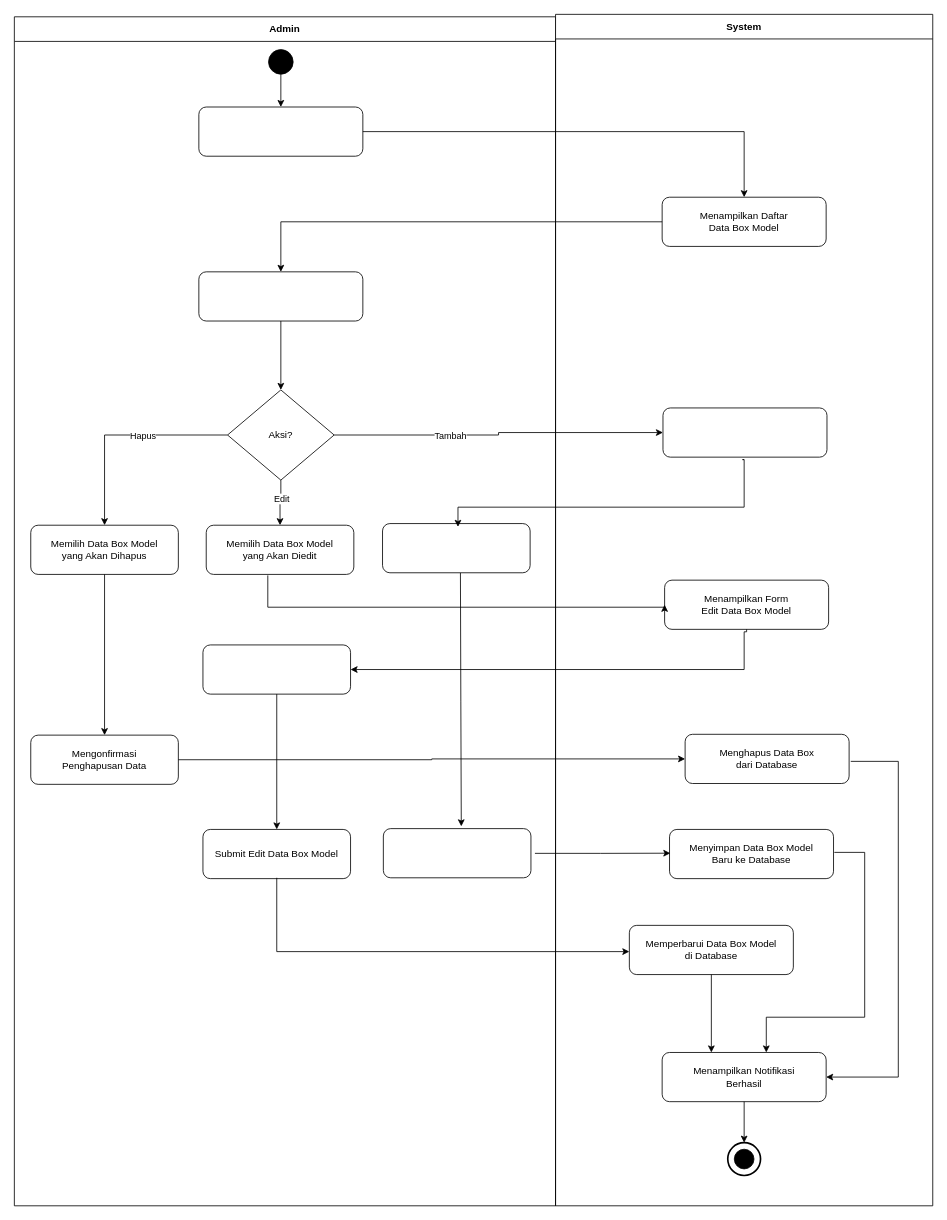
The diagram is 947 pixels wide and 1220 high, and some of its shapes have lost their labels. The shapes that lost their labels are listed below. From the top down, each one's centre as x and y in pixels, then its label:
At (280,131): "Mengakses Halaman Box Model Management".
At (280,296): "Memilih Aksi".
At (744,432): "Menampilkan Form Tambah Data Box Model".
At (456,548): "Mengisi Form Tambah Data Box Model".
At (276,669): "Mengubah Data pada Form Edit".
At (457,853): "Submit Tambah Data Box Model".
